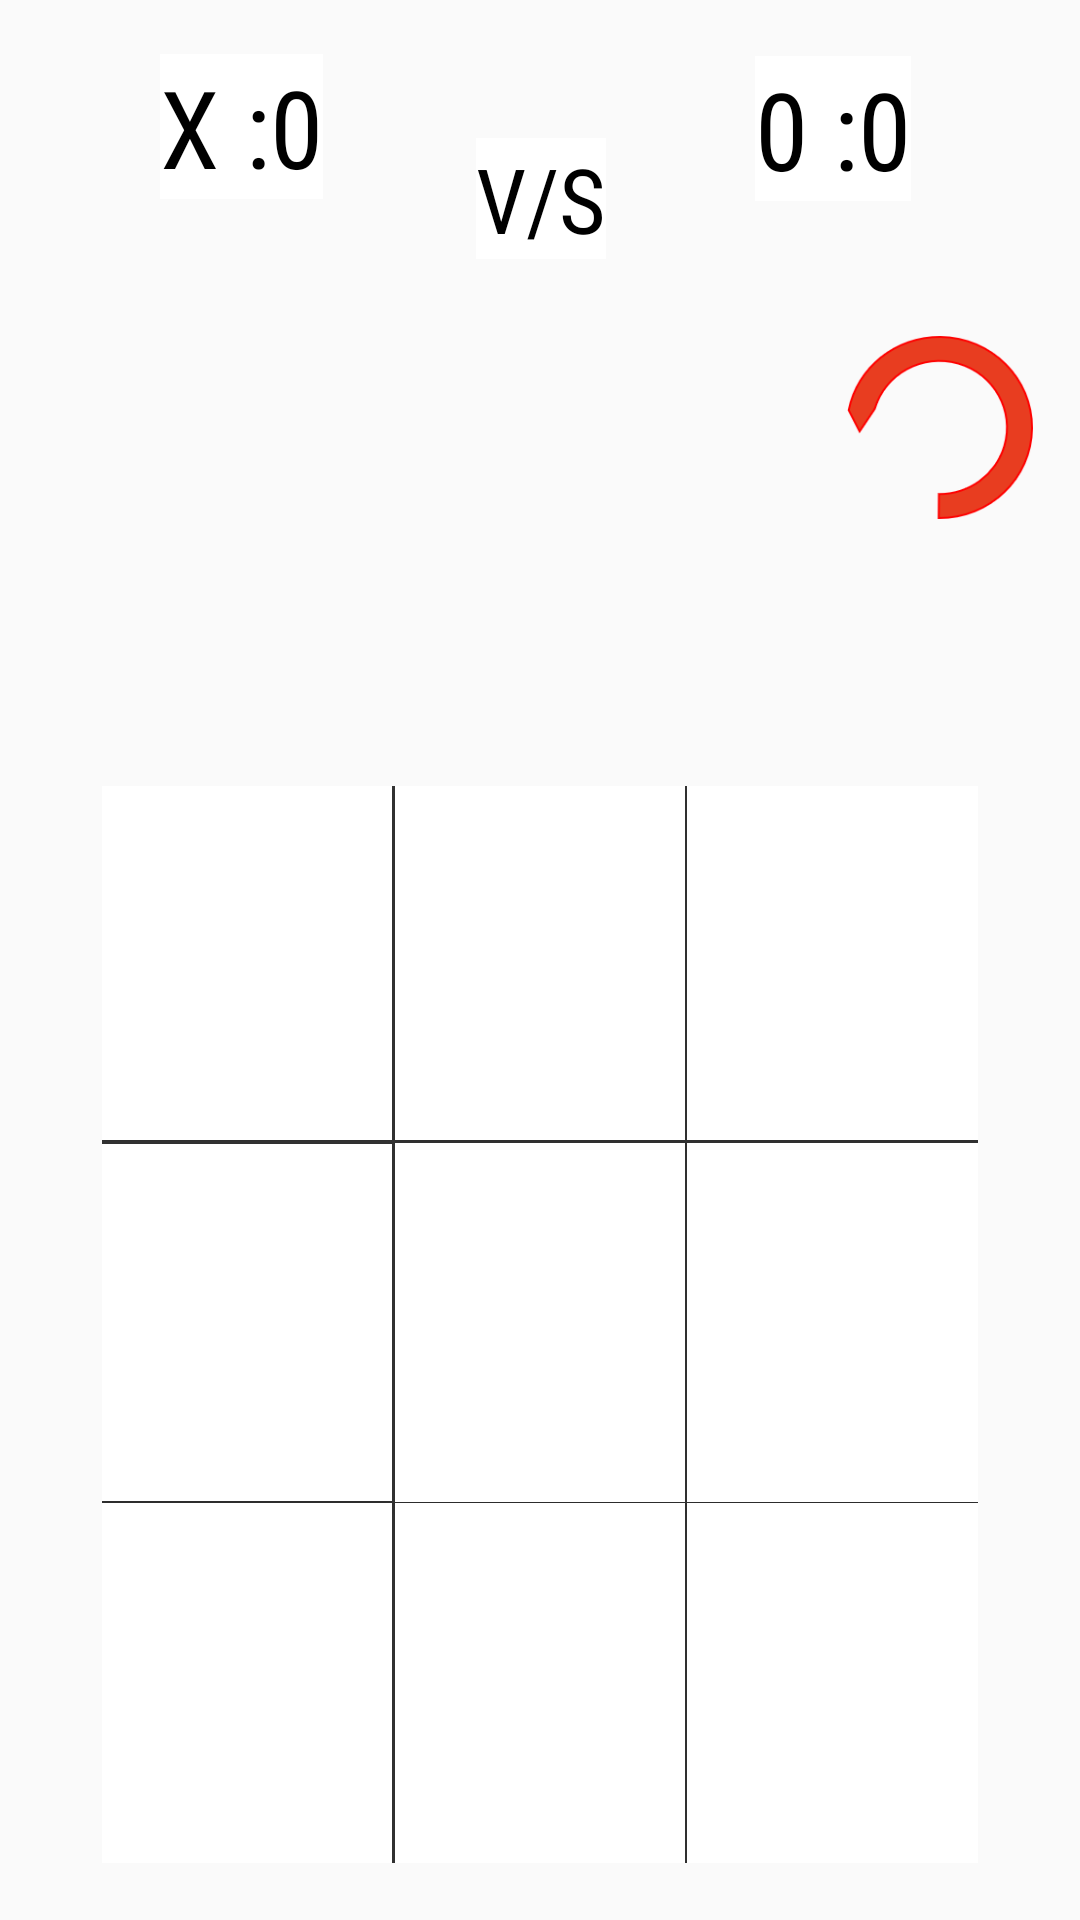

Where icons sit on this 1080 x 1920 app screen, as (x1, y1, x2, y2):
rev: (847, 336, 1033, 519)
